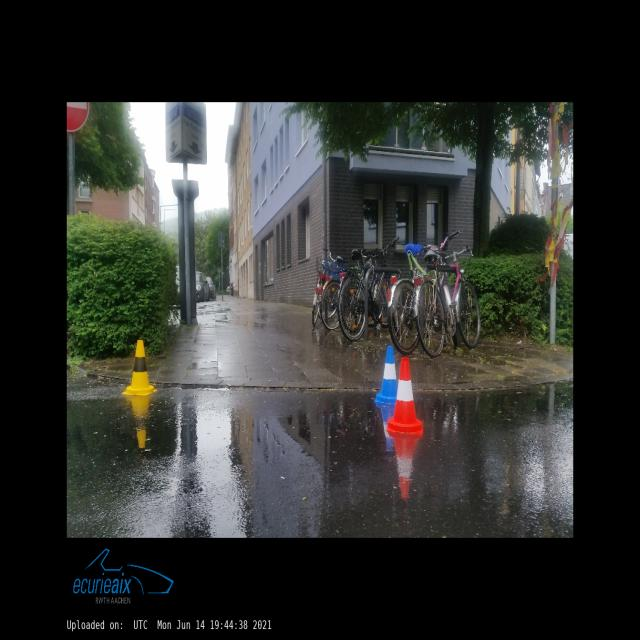blue_cone: (376, 346, 398, 404)
orange_cone: (387, 358, 423, 433)
yellow_cone: (122, 340, 157, 395)
